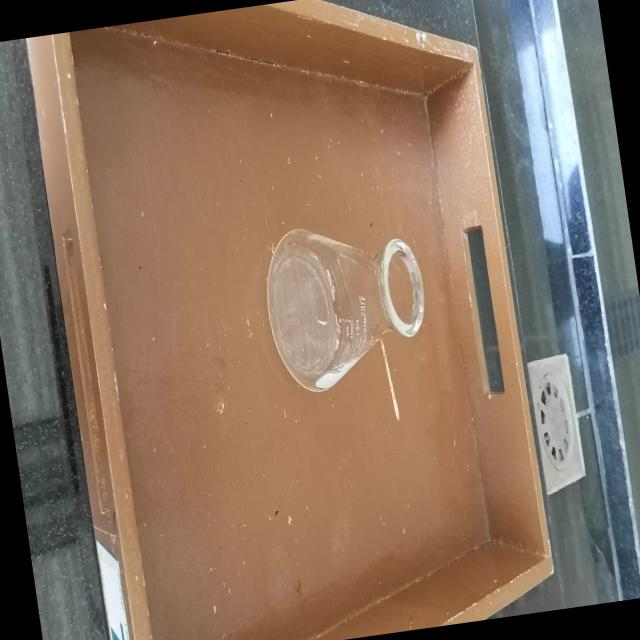erlenmeyer_flask: (248, 196, 441, 410)
